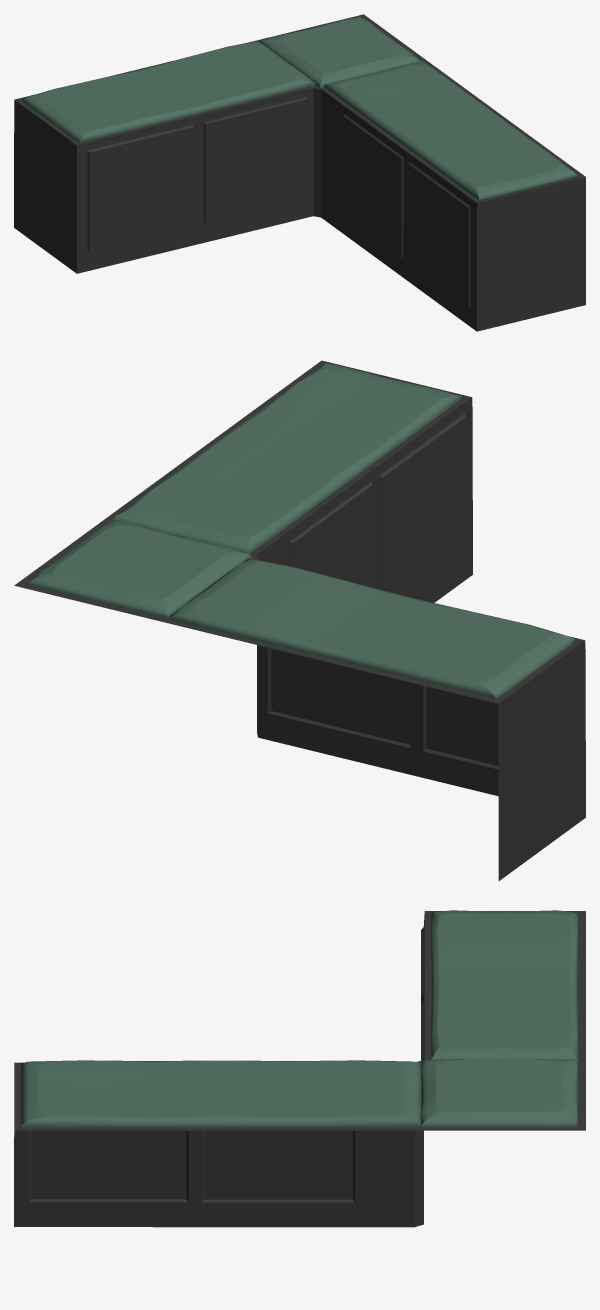
File: Bench.fbx
3 views of the same model, one above another, from view 1: azimuth 30°, elevation 25°; view 2: azimuth 150°, elevation 25°; view 3: azimuth 270°, elevation 25° (orthographic). The views are drawn at different scales.
Visible parts, largest first — view 1: pasted__pasted__pasted__pCube23; view 2: pasted__pasted__pasted__pCube23; view 3: pasted__pasted__pasted__pCube23.
Boxes of the visible parts, x1,y1,x2,y2 form: pasted__pasted__pasted__pCube23: (14,14,585,331); pasted__pasted__pasted__pCube23: (14,360,585,880); pasted__pasted__pasted__pCube23: (14,910,585,1227).
Bounding box in the file's own units: 132 × 48.73 × 145.
